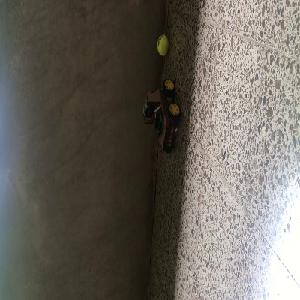Ball: (157, 35, 167, 56)
Robot: (142, 79, 181, 154)
